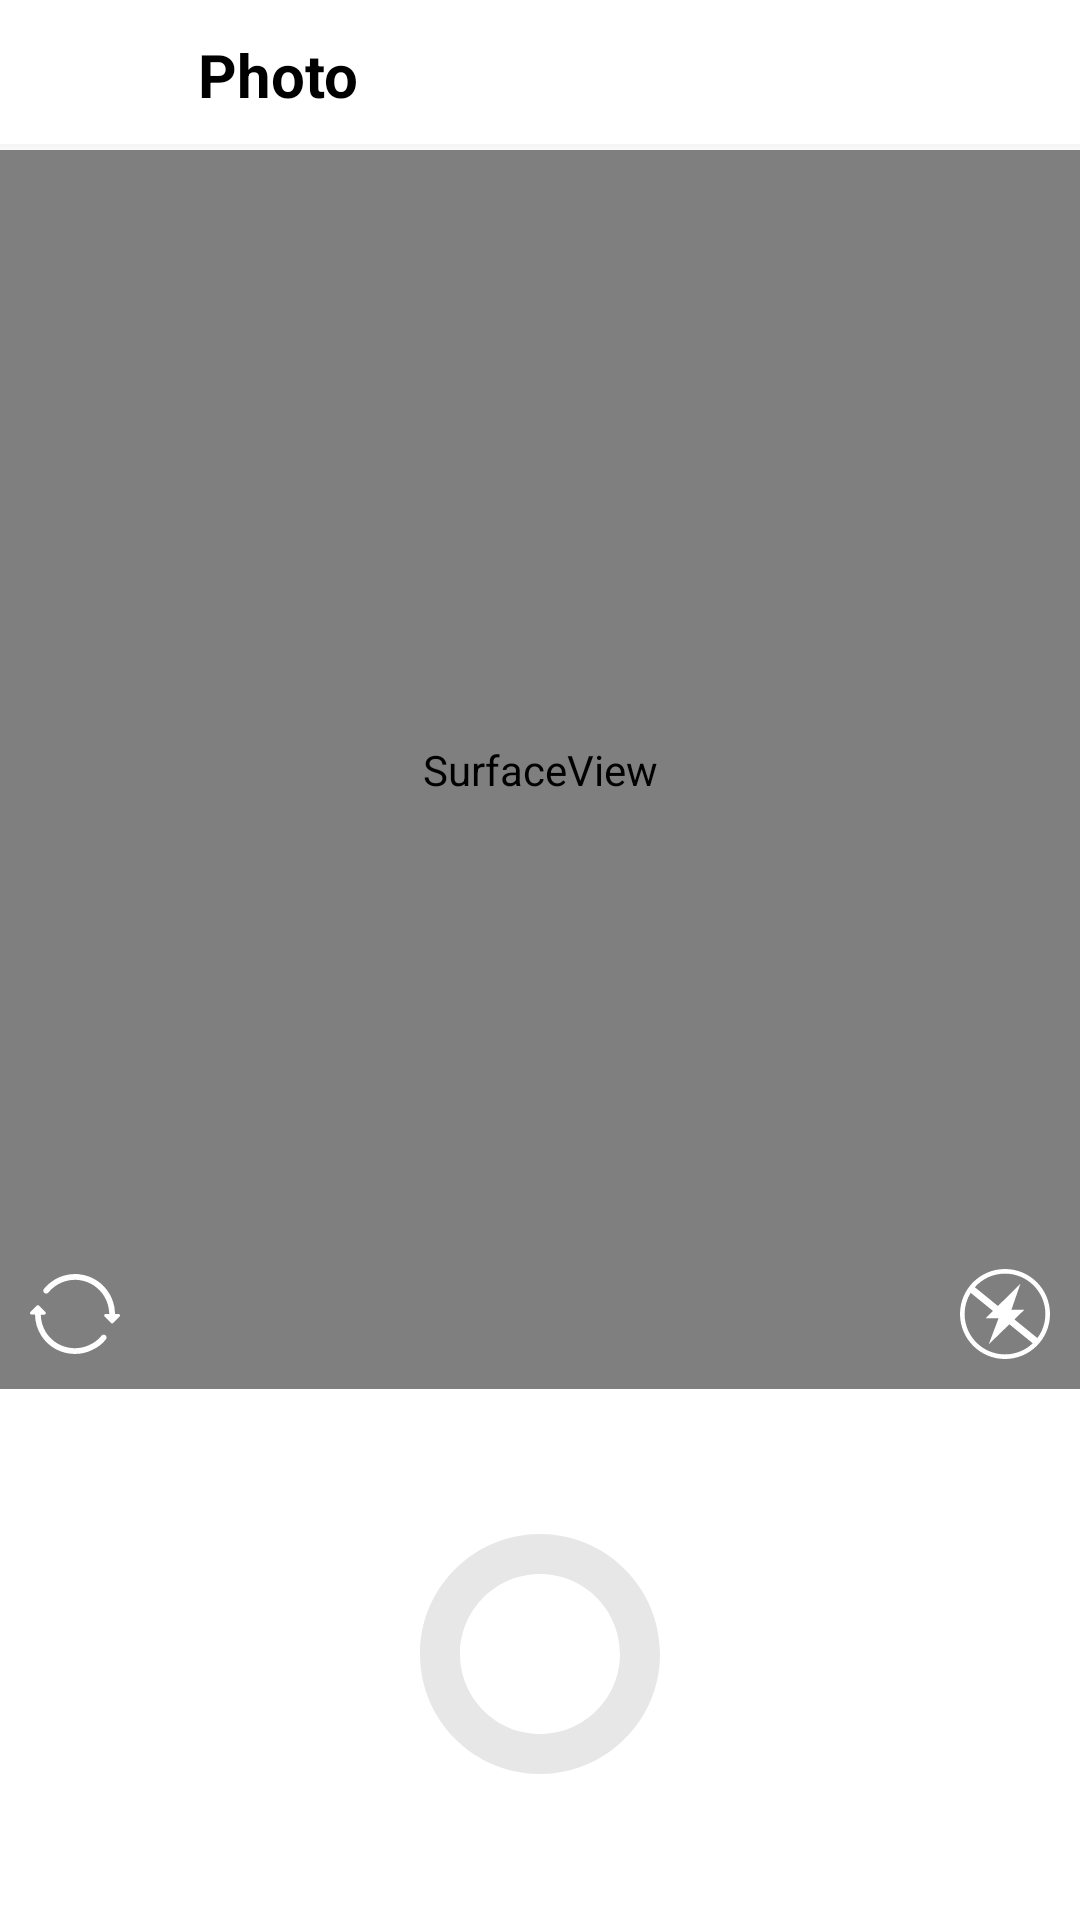

Point at icon controls on the screen. Image size 1080x1920, points as (x=x, y=y).
change: (x=75, y=1314)
flashoff: (x=1005, y=1314)
